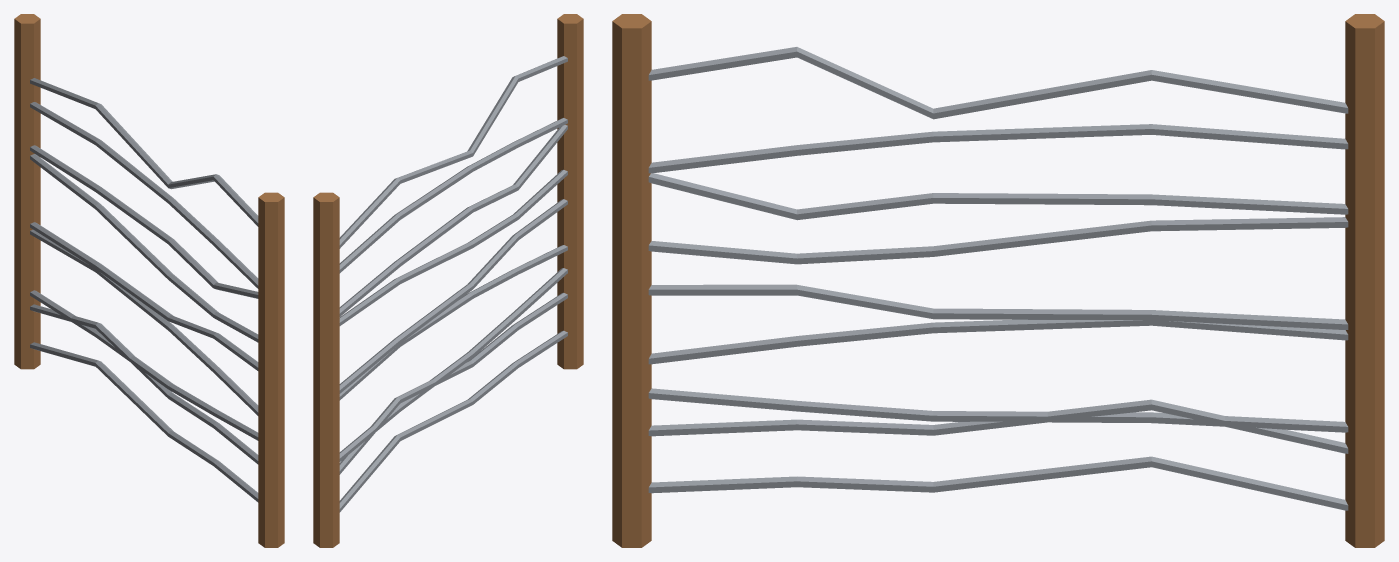
The model's file is Tel_Orgu.fbx.
3 views of the same model, side by side, from view 1: azimuth 30°, elevation 25°; view 2: azimuth 150°, elevation 25°; view 3: azimuth 270°, elevation 25° (orthographic). The views are drawn at different scales.
Visible parts, largest first — view 1: Cylinder.001; view 2: Cylinder.001; view 3: Cylinder.001.
Part boxes in pixels (x1=…): Cylinder.001: x1=14, y1=14, x2=284, y2=547; Cylinder.001: x1=313, y1=14, x2=583, y2=547; Cylinder.001: x1=612, y1=14, x2=1384, y2=547.
Bounding box in the file's own units: 22.83 × 384 × 518.
